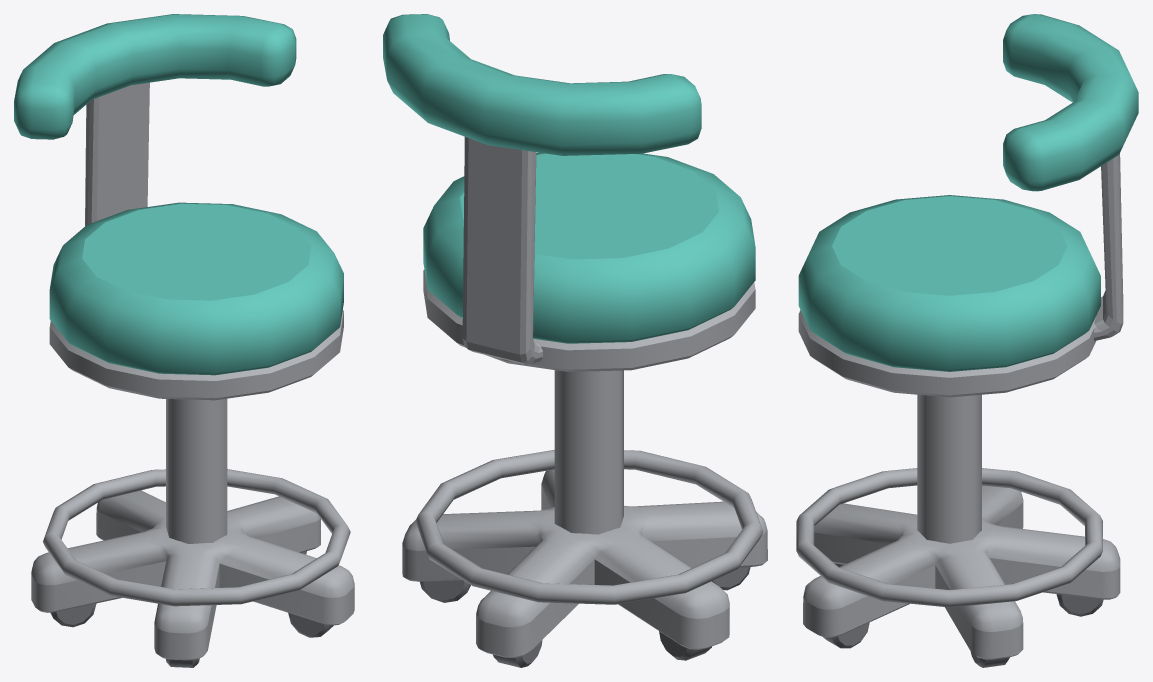
Rendered from Chair_2.fbx.
3 renders of one model, left to right at view 1: azimuth 30°, elevation 25°; view 2: azimuth 150°, elevation 25°; view 3: azimuth 270°, elevation 25°, orthographic. The views are drawn at different scales.
Parts seen in each view (by area): view 1: Chair_2; view 2: Chair_2; view 3: Chair_2.
Boxes of the visible parts, x1,y1,x2,y2 form: Chair_2: [14, 14, 354, 667]; Chair_2: [383, 14, 767, 667]; Chair_2: [796, 14, 1138, 667].
Size of the model in its own units: 0.4711 by 0.8428 by 0.4871.
